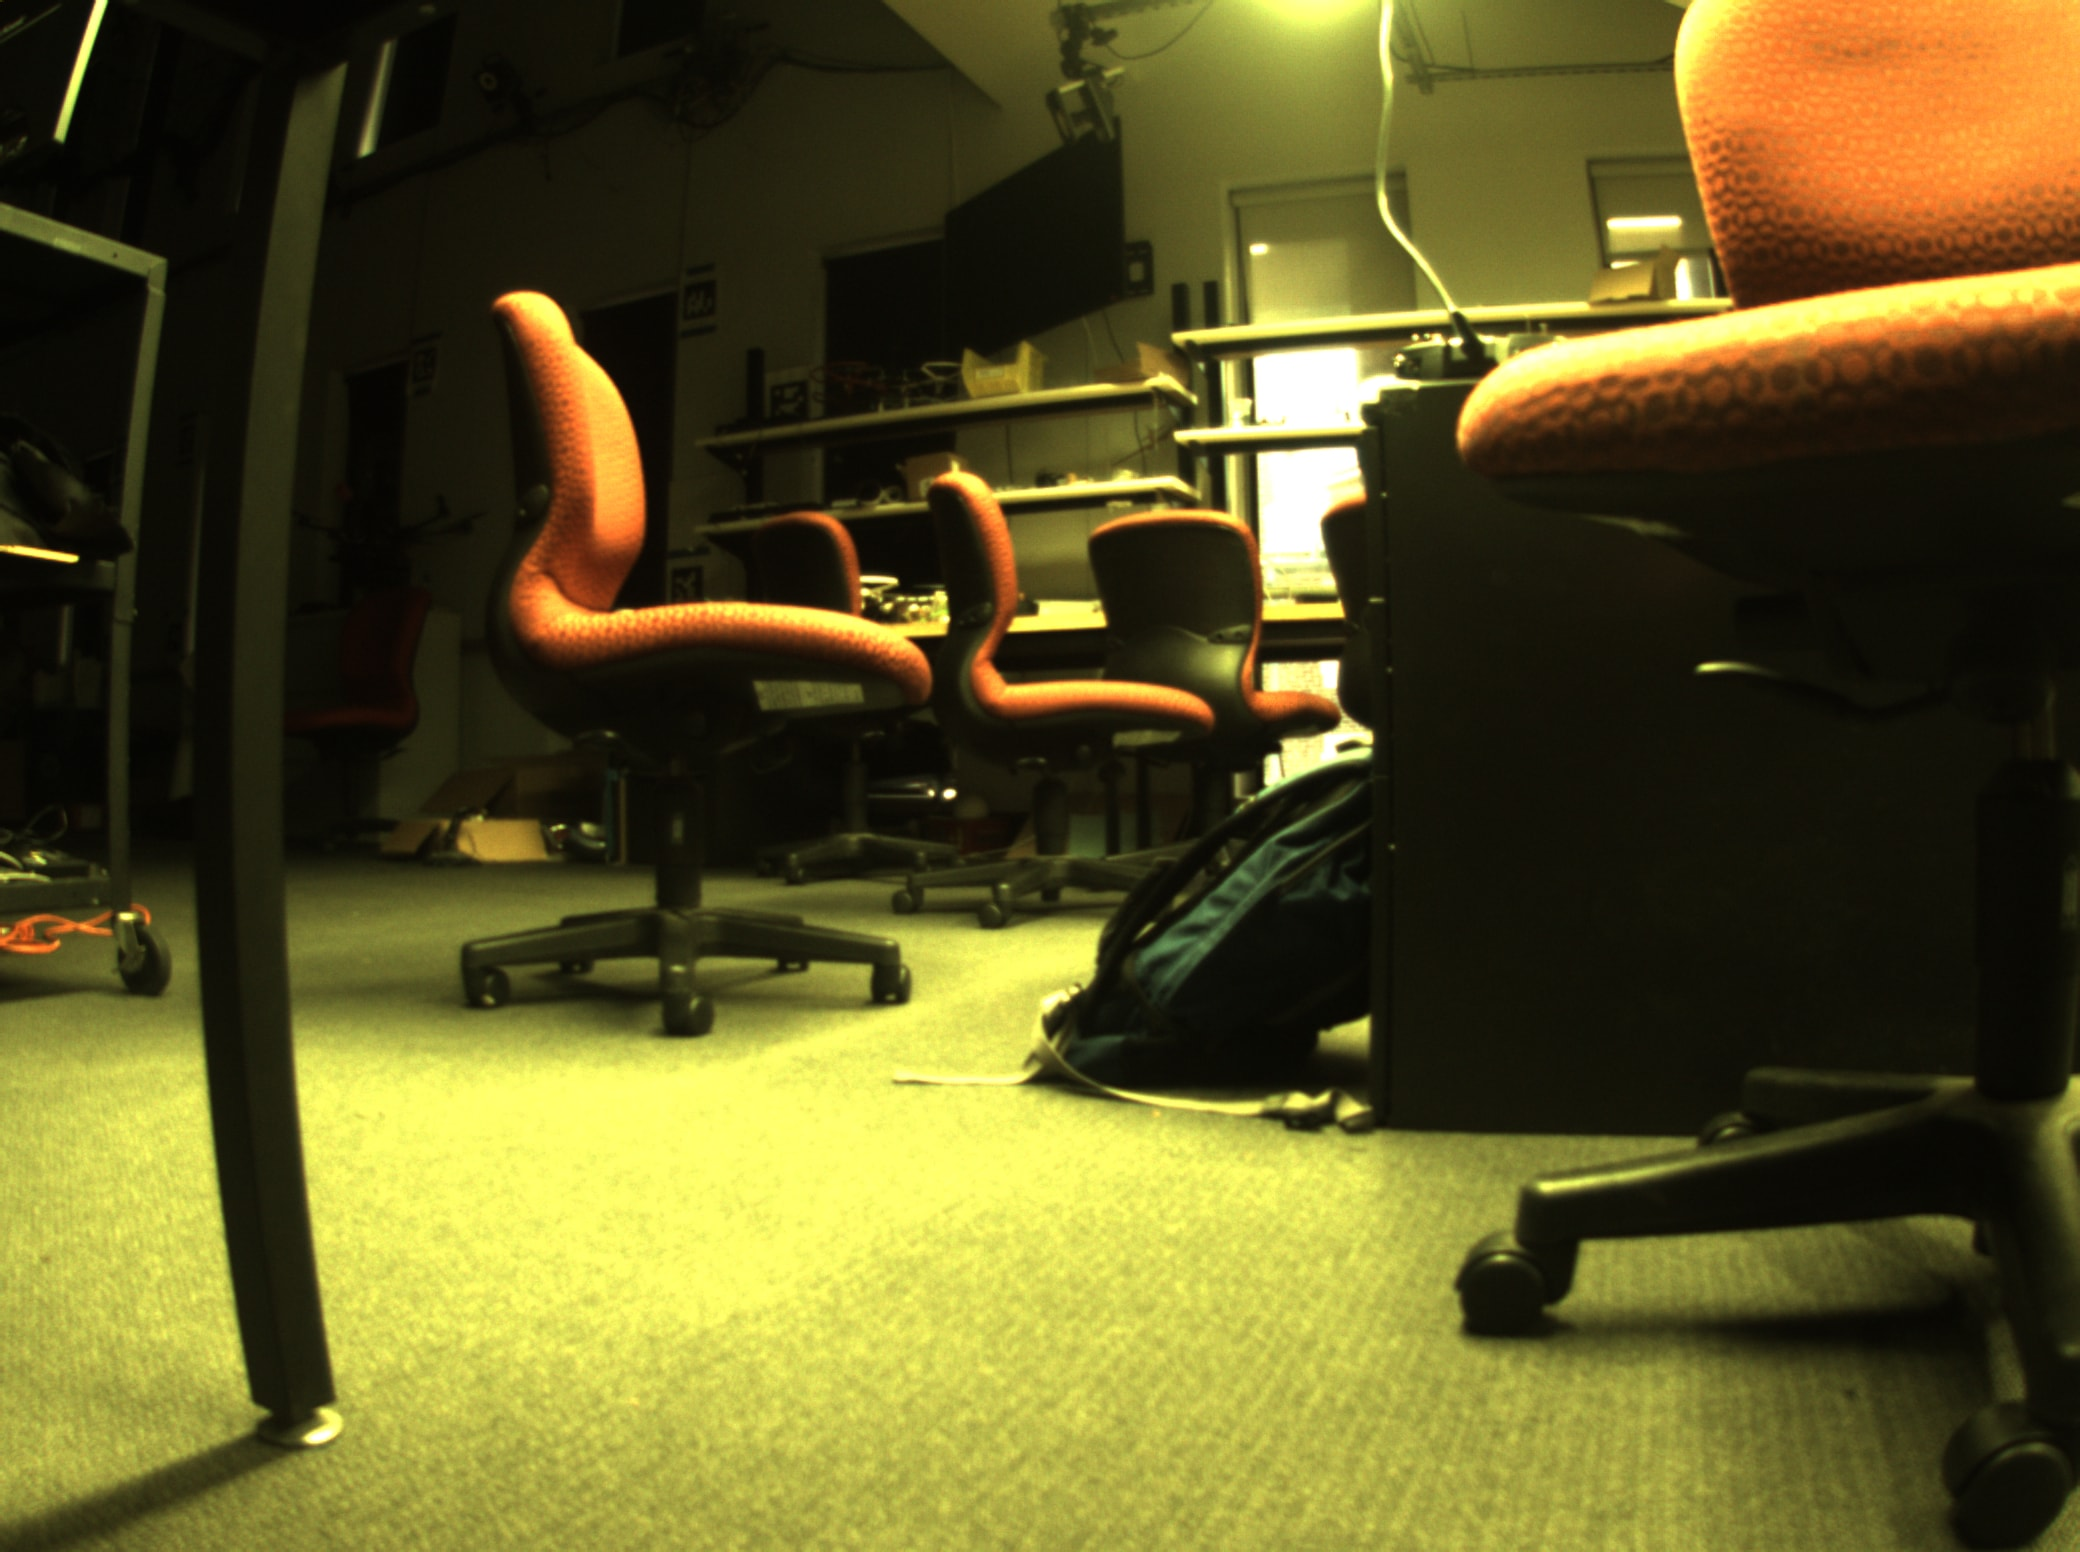chair: (1451, 3, 2073, 1524), (432, 271, 936, 1061), (910, 435, 1210, 936), (1082, 500, 1343, 902)
